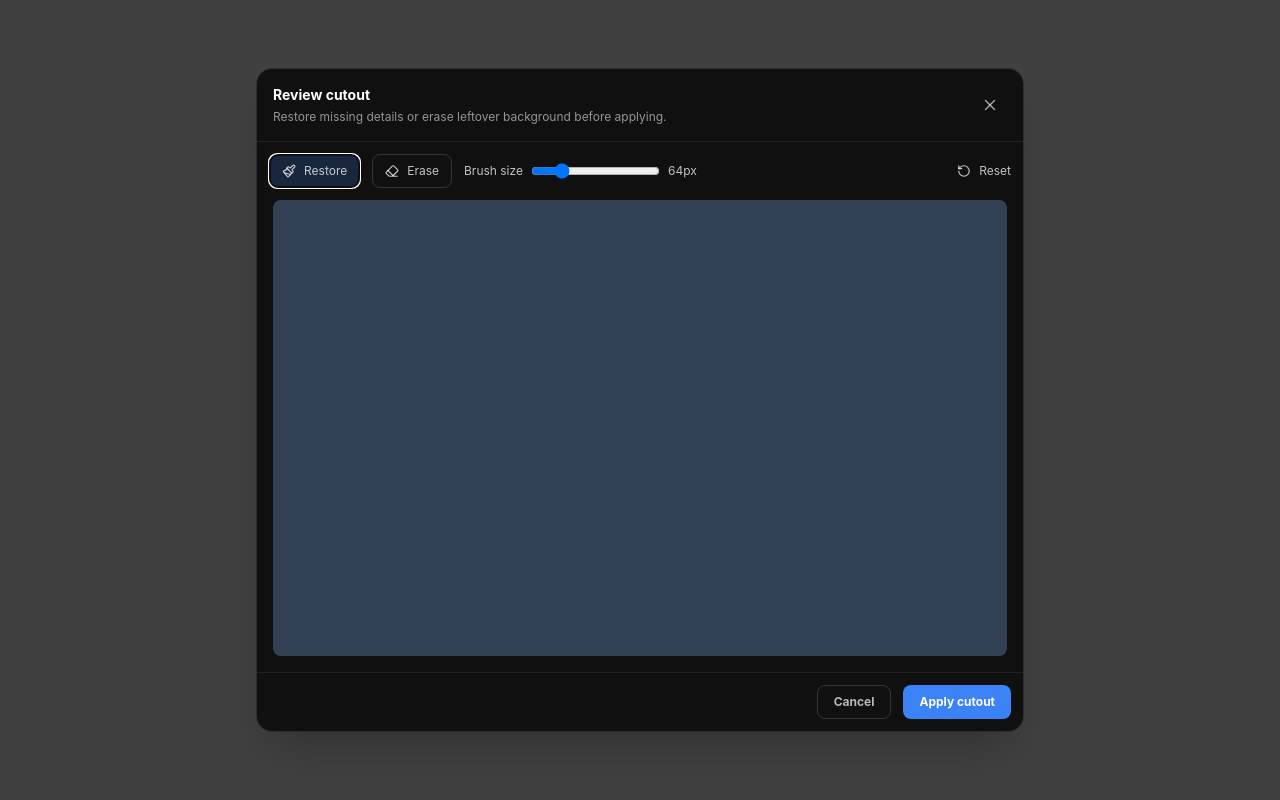
cutout review › keeps the review retryable when storage/apply fails
Click the button "Apply cutout" at (957, 702), box [903,685,1011,719]
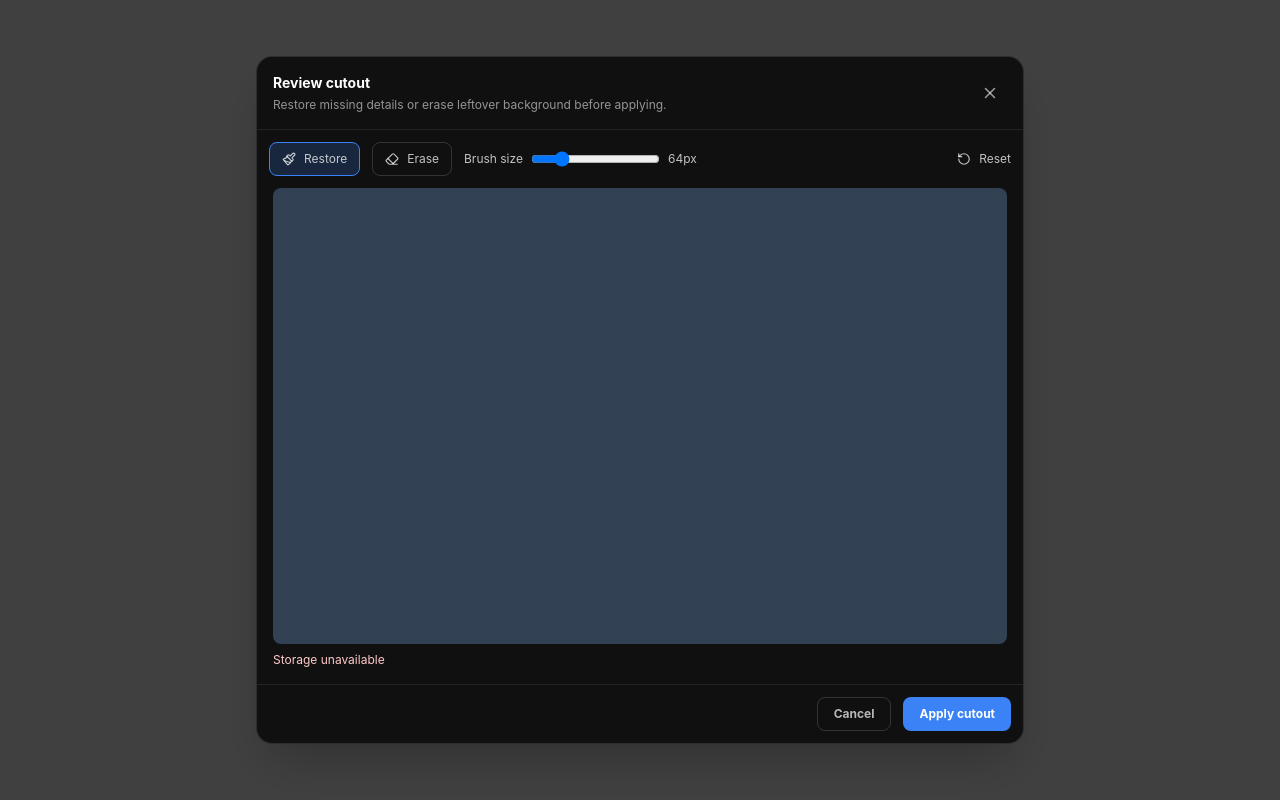
Expected: the button "Apply cutout" is enabled, [903,697,1011,731]
Expected: the message reads "Storage unavailable", [273,652,385,667]
